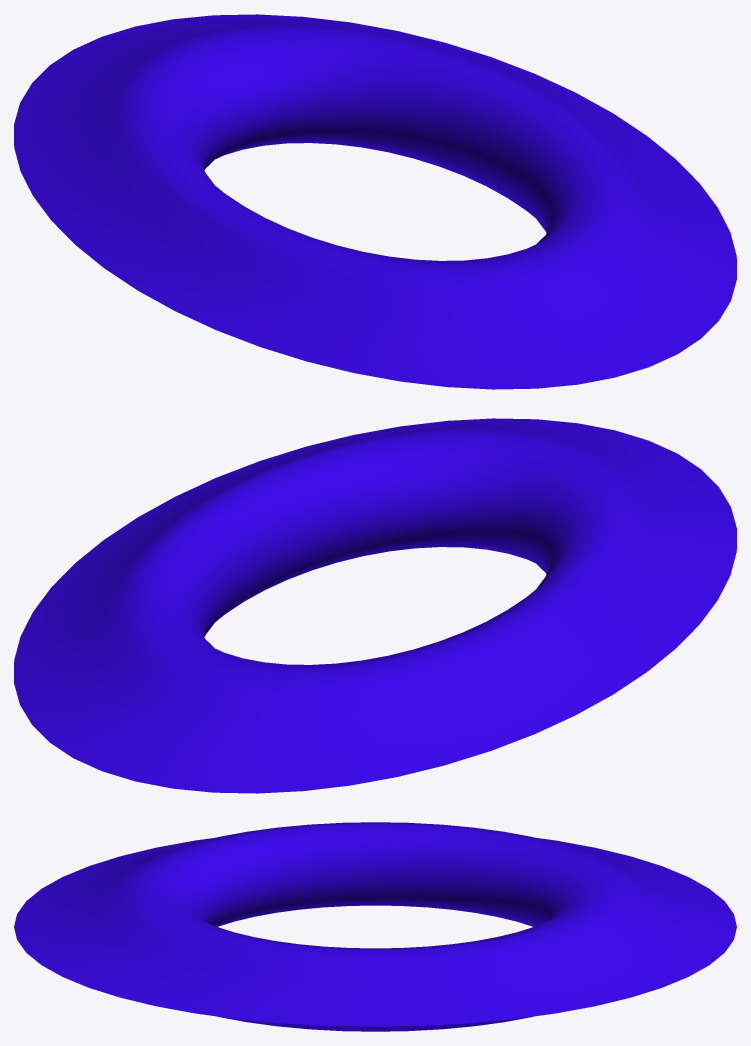
Rendered from characterballMesh.glb.
3 views of the same model, one above another, from view 1: azimuth 30°, elevation 25°; view 2: azimuth 150°, elevation 25°; view 3: azimuth 270°, elevation 25° (orthographic). The views are drawn at different scales.
Visible parts, largest first — view 1: characterballmesh; view 2: characterballmesh; view 3: characterballmesh.
Part boxes in pixels (x1,y1,x2,y2): characterballmesh: (14,14,736,389); characterballmesh: (14,418,736,793); characterballmesh: (14,822,736,1031).
Size of the model in its own units: 7.14 by 1.3 by 10.92.
